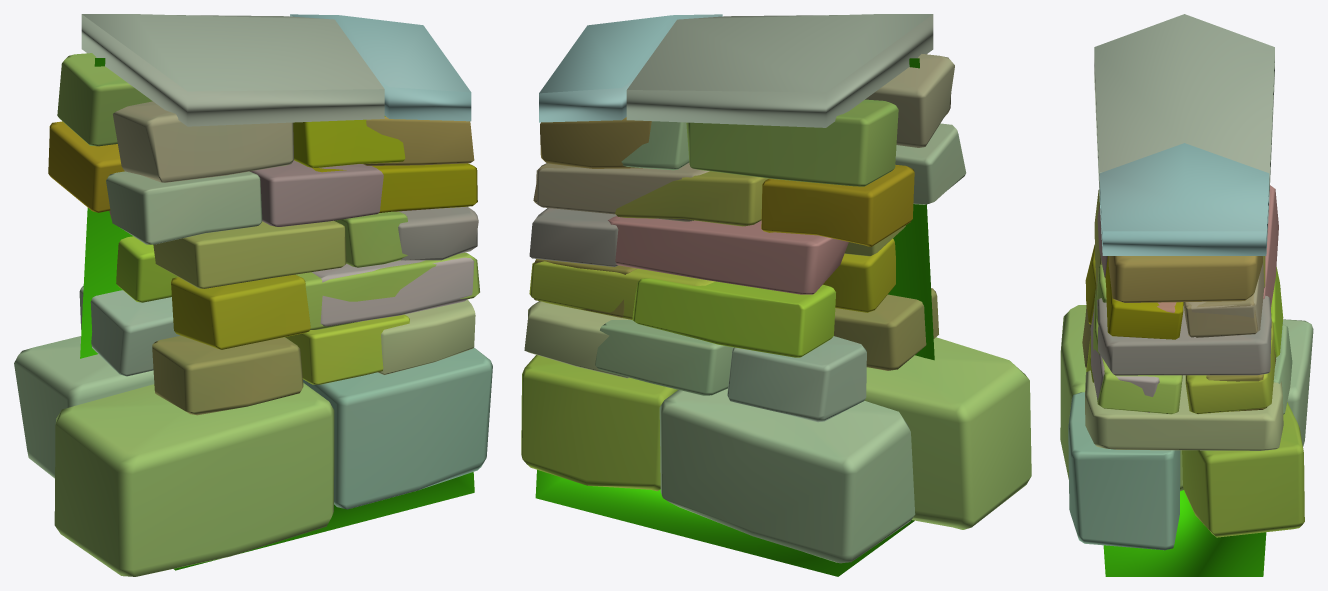
The model's file is SM_Prop_wall_end_20.glb.
The picture shows the model from 3 angles, left to right: view 1: azimuth 30°, elevation 25°; view 2: azimuth 150°, elevation 25°; view 3: azimuth 270°, elevation 25°; orthographic projection. The views are drawn at different scales.
Visible parts, largest first — view 1: SM_Prop_wall_end_20; view 2: SM_Prop_wall_end_20; view 3: SM_Prop_wall_end_20.
Part boxes in pixels (x1,y1,x2,y2): SM_Prop_wall_end_20: (14,14,492,576); SM_Prop_wall_end_20: (521,14,1031,576); SM_Prop_wall_end_20: (1060,14,1313,576).
Size of the model in its own units: 1.24 by 1.56 by 0.8109.
